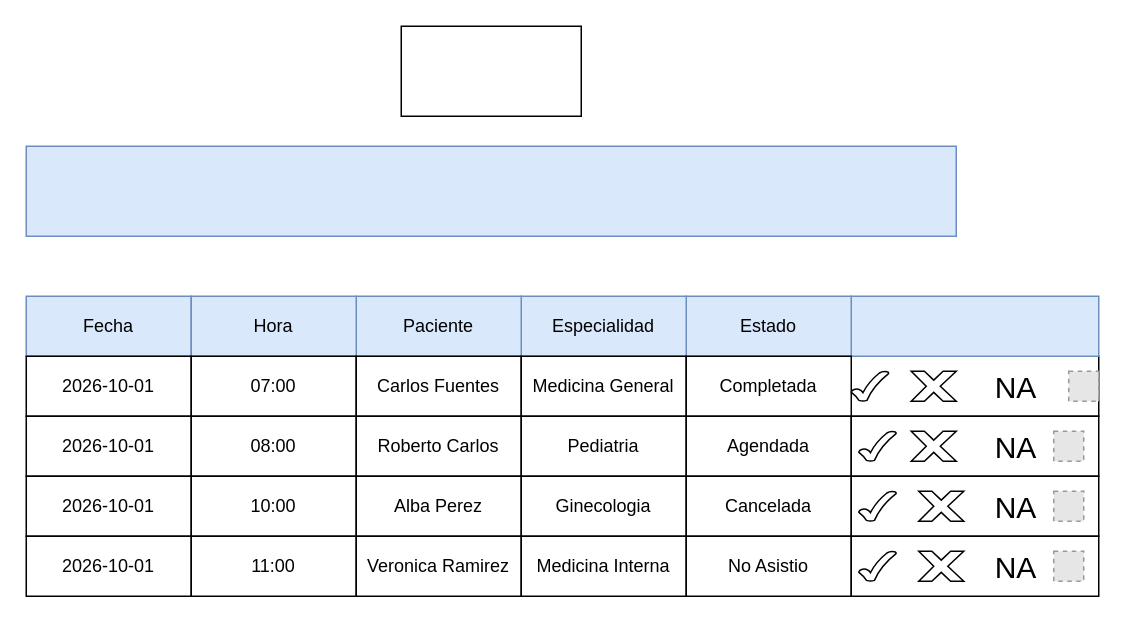
Some shapes in this 1125 by 623 pixel diagram are drawn without their labels. Grey dashed boxes stand in for pictures. Each missing label, with the centre of its shape:
Accciones: point (974, 325)
Buscar: point (490, 190)
Panel de Control de Citas: point (490, 70)
